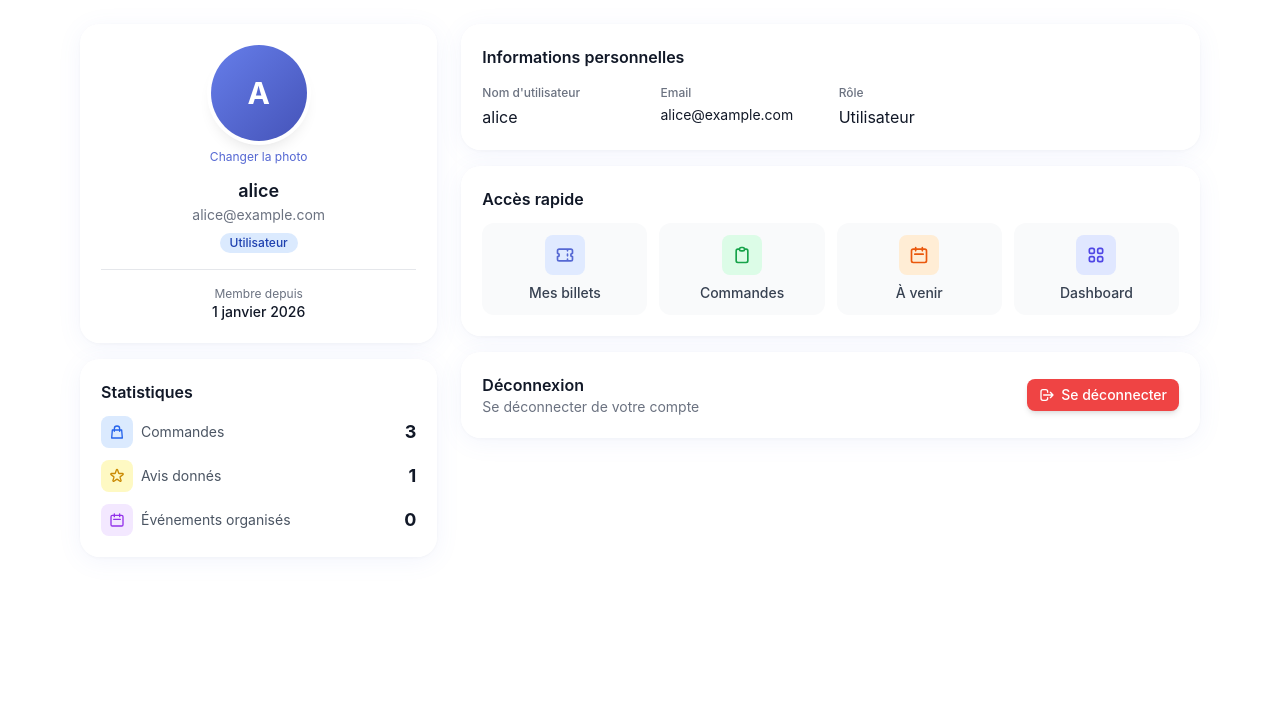
Test: ProfilePage - own profile: content › cancels the logout confirmation without logging out
Click the button "Se déconnecter".
click(1103, 395)  # box [1027,379,1179,411]
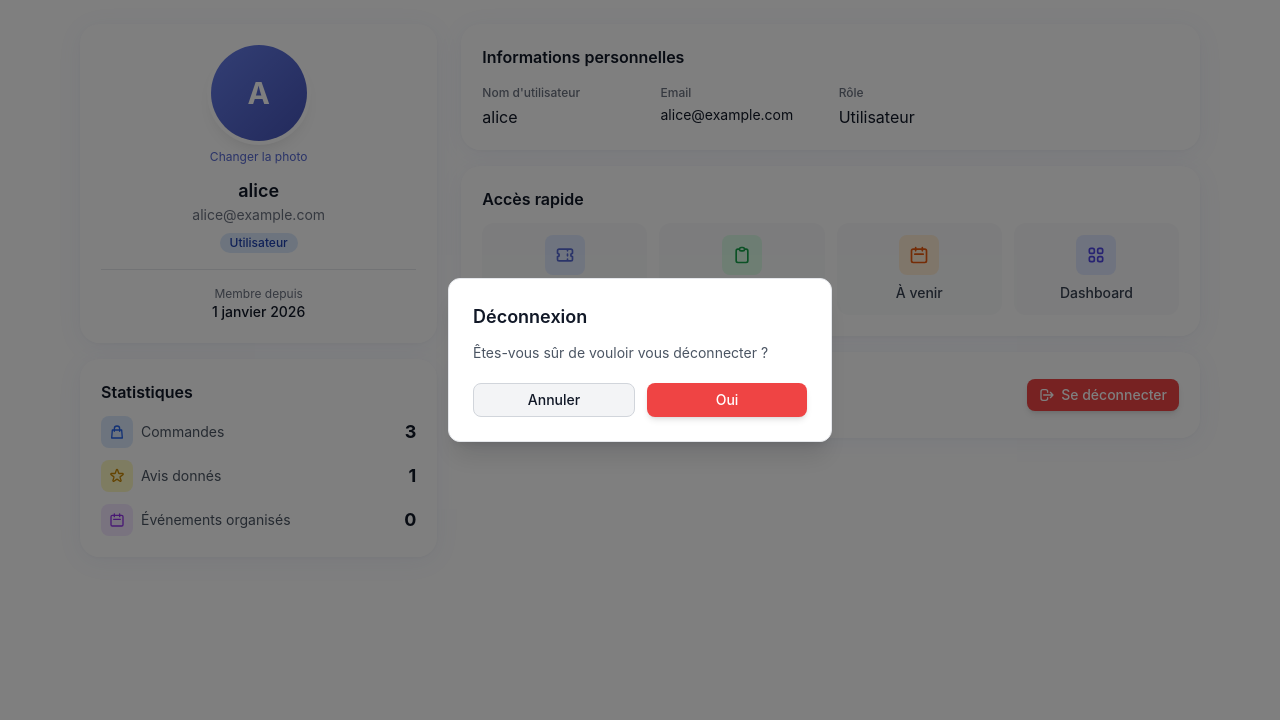
Click the button "Annuler".
click(554, 400)  # box [473,383,635,417]
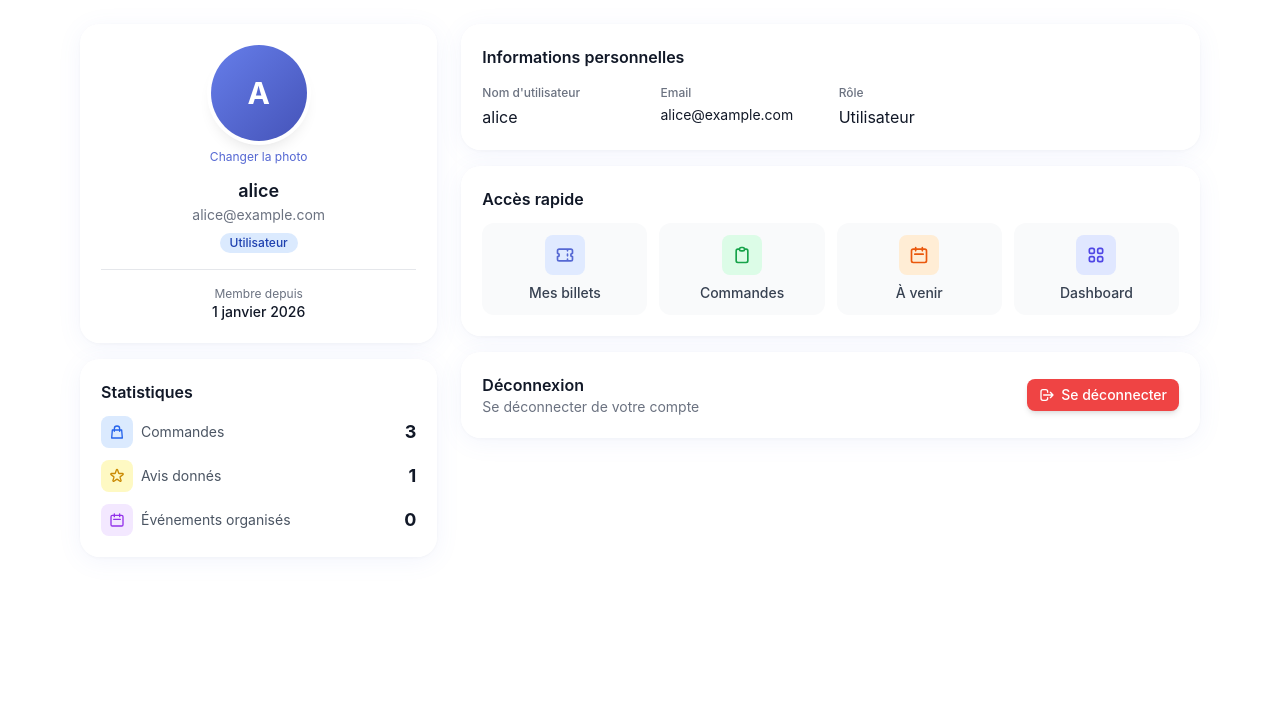
expect the dialog is gone: met
